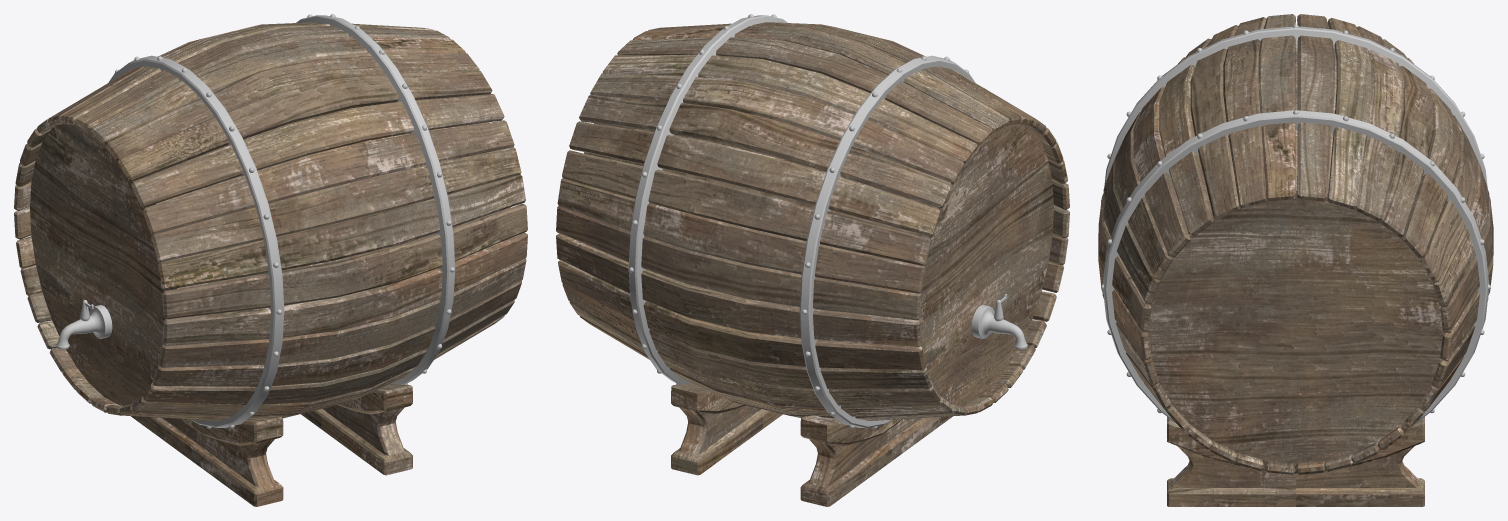
File: SM_Large_Keg.fbx
The picture shows the model from 3 angles, left to right: view 1: azimuth 30°, elevation 25°; view 2: azimuth 150°, elevation 25°; view 3: azimuth 270°, elevation 25°; orthographic projection.
Visible parts, largest first — view 1: SM_Large_Keg_LOD0; view 2: SM_Large_Keg_LOD0; view 3: SM_Large_Keg_LOD0.
Boxes of the visible parts, <box> form: SM_Large_Keg_LOD0: <box>14,14,527,506</box>; SM_Large_Keg_LOD0: <box>556,14,1069,506</box>; SM_Large_Keg_LOD0: <box>1098,14,1493,506</box>.
Size of the model in its own units: 133 by 113 by 127.
